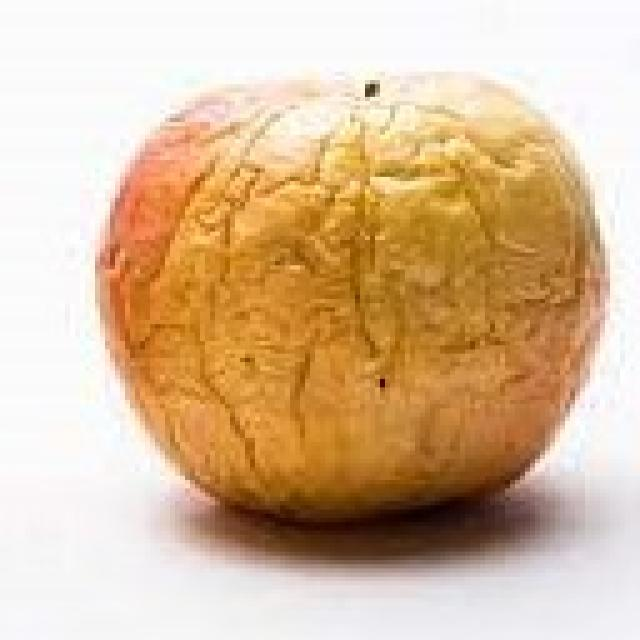overripe: (87, 64, 617, 531)
